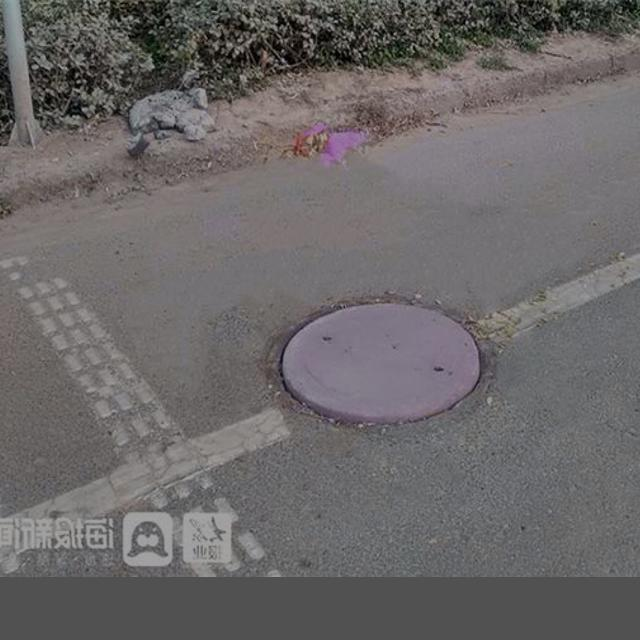good: (242, 281, 505, 440)
